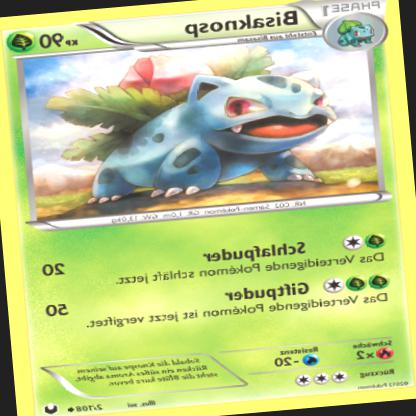Ivysaur: (43, 40, 338, 214)
